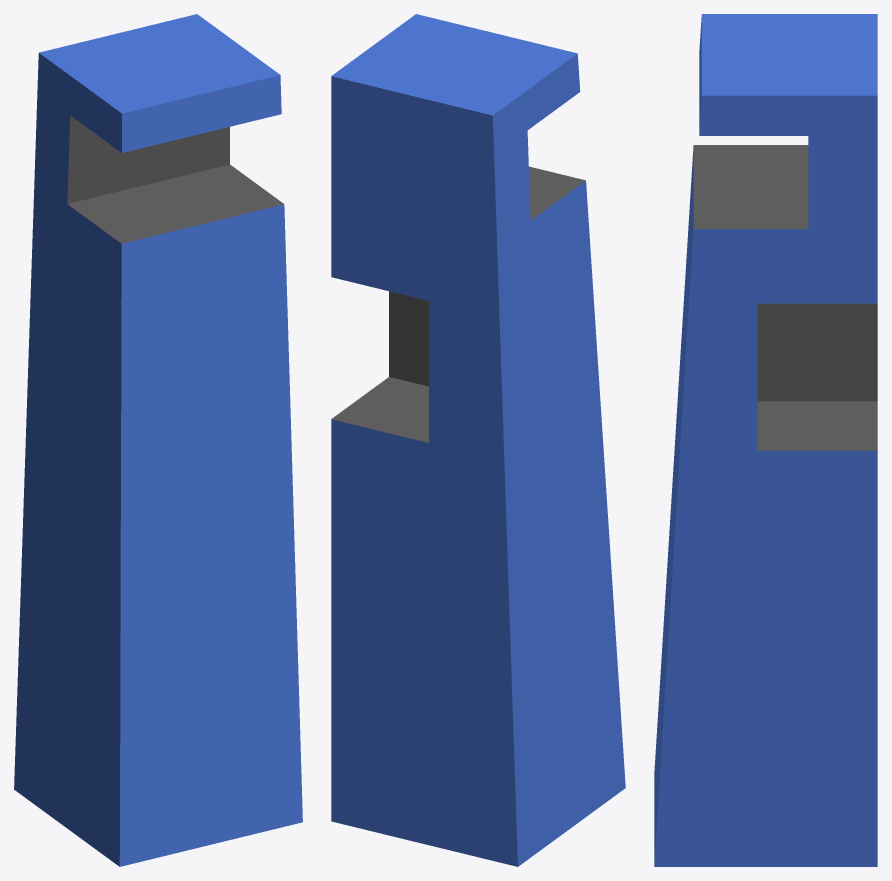
File: block6.fbx
The picture shows the model from 3 angles, left to right: view 1: azimuth 30°, elevation 25°; view 2: azimuth 150°, elevation 25°; view 3: azimuth 270°, elevation 25°; orthographic projection. The views are drawn at different scales.
Parts seen in each view (by area): view 1: Cube.002; view 2: Cube.002; view 3: Cube.002.
Part boxes in pixels (<box>): Cube.002: <box>14,14,302,866</box>; Cube.002: <box>331,14,625,866</box>; Cube.002: <box>654,14,877,866</box>.
Bounding box in the file's own units: 200 × 763 × 200.
